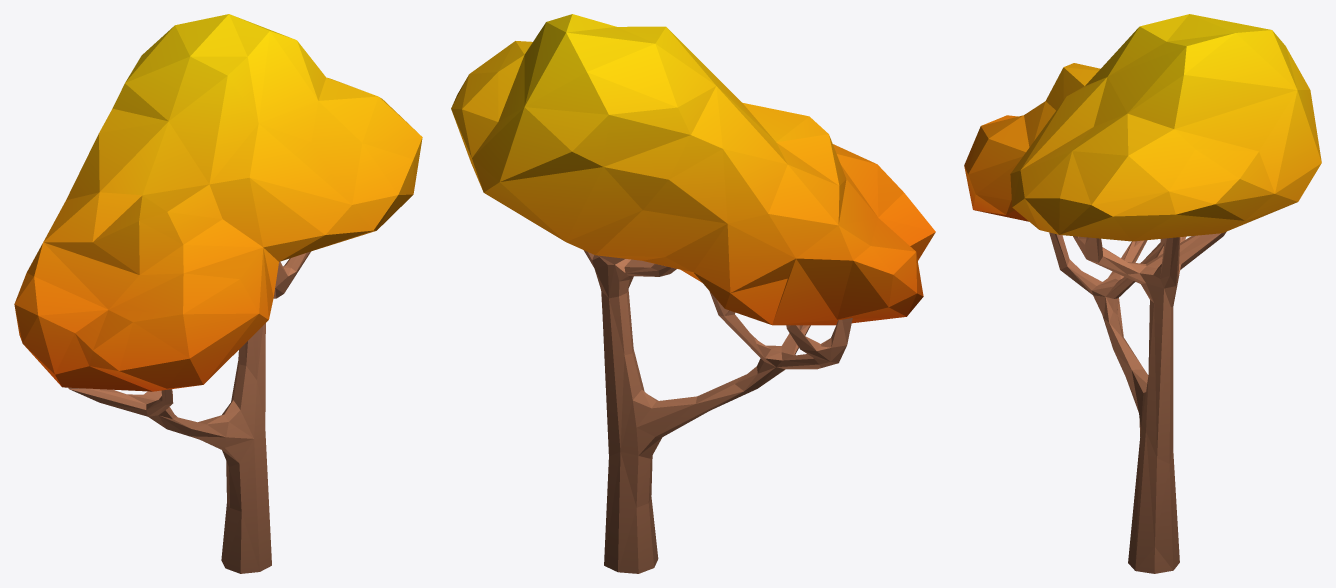
File: autumn tree 15.fbx
The picture shows the model from 3 angles, left to right: view 1: azimuth 30°, elevation 25°; view 2: azimuth 150°, elevation 25°; view 3: azimuth 270°, elevation 25°; orthographic projection. The views are drawn at different scales.
Visible parts, largest first — view 1: autumn tree 15; view 2: autumn tree 15; view 3: autumn tree 15.
Part boxes in pixels (bbox=[...]): autumn tree 15: bbox=[14, 14, 422, 573]; autumn tree 15: bbox=[451, 14, 935, 573]; autumn tree 15: bbox=[964, 14, 1321, 573].
Bounding box in the file's own units: 506 × 627 × 376.
